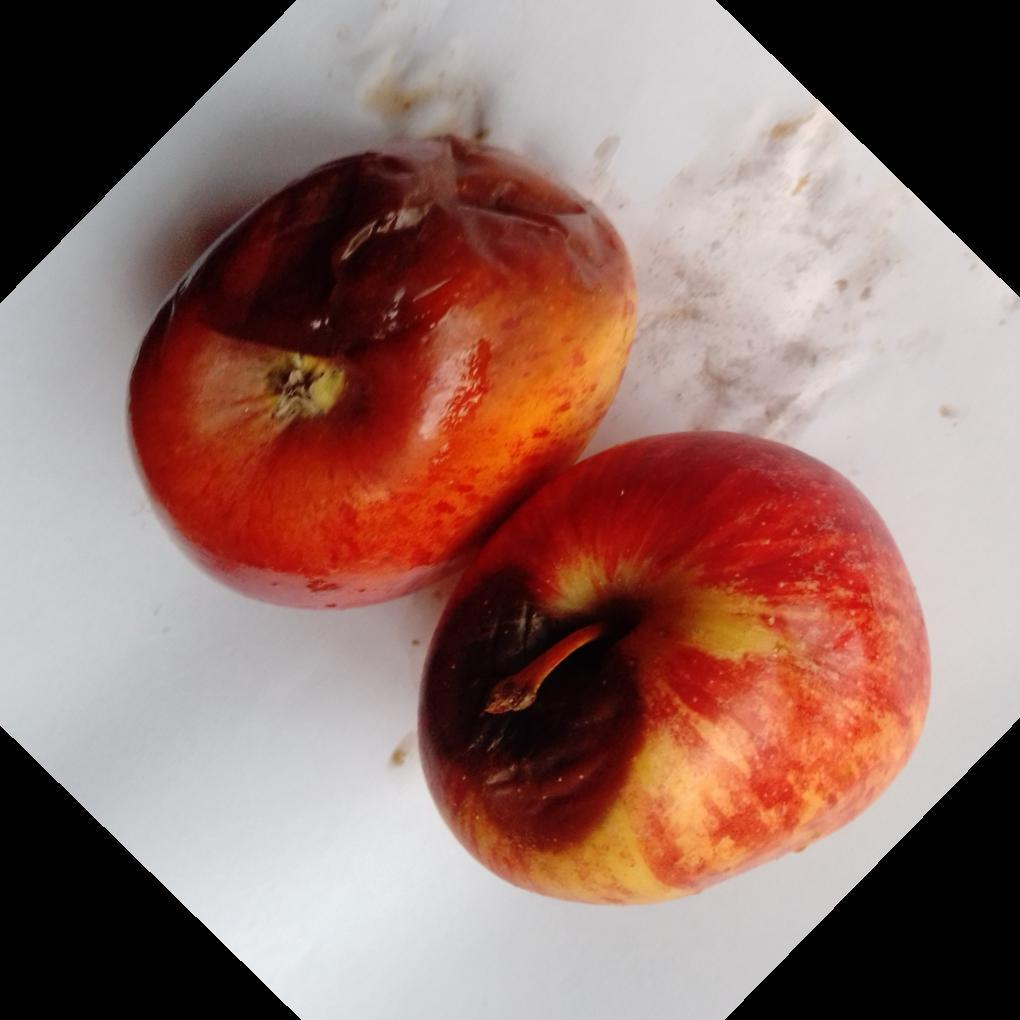FreshOrange: (126, 137, 905, 896)
